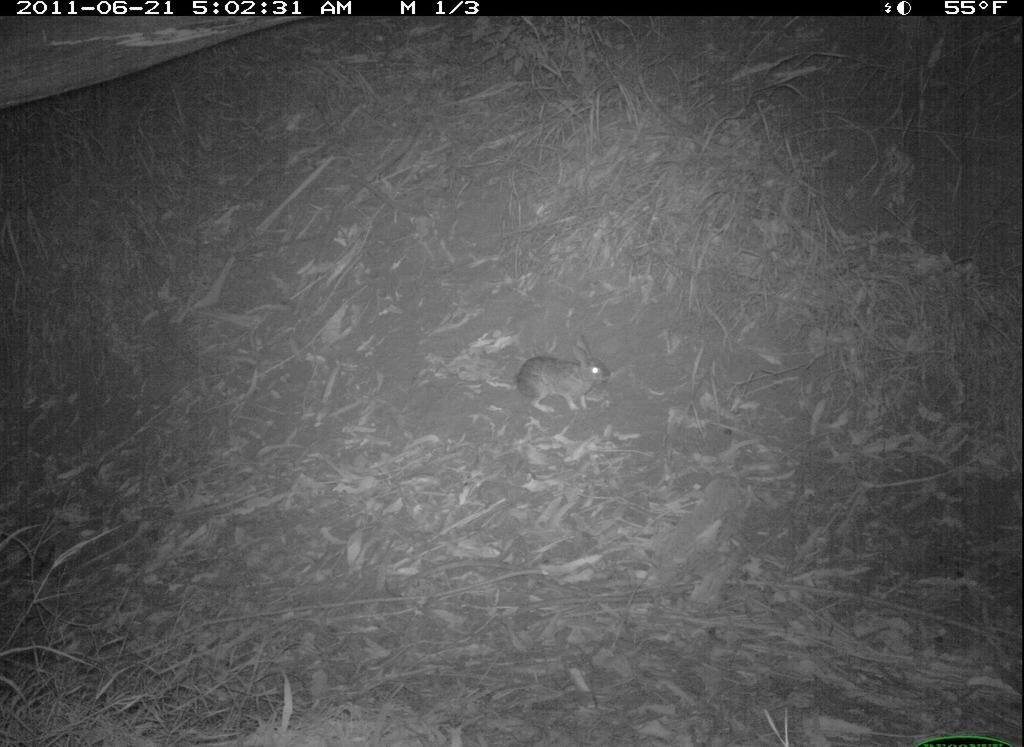rabbit: (519, 329, 619, 419)
